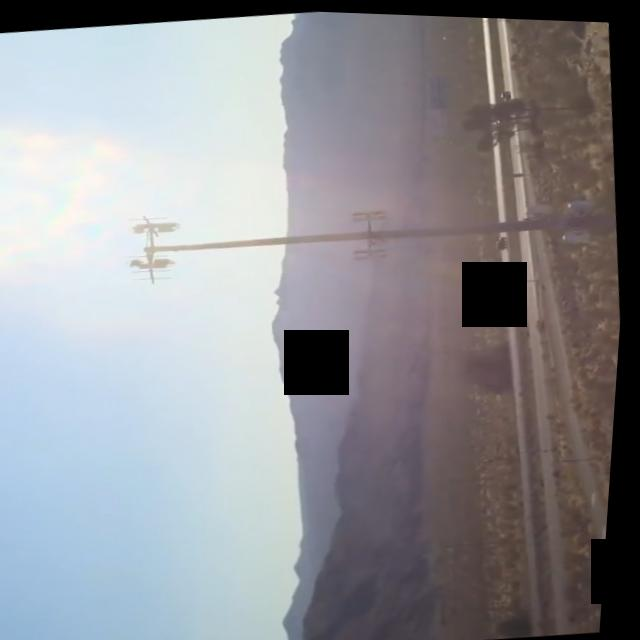Pole: (118, 162, 624, 297)
